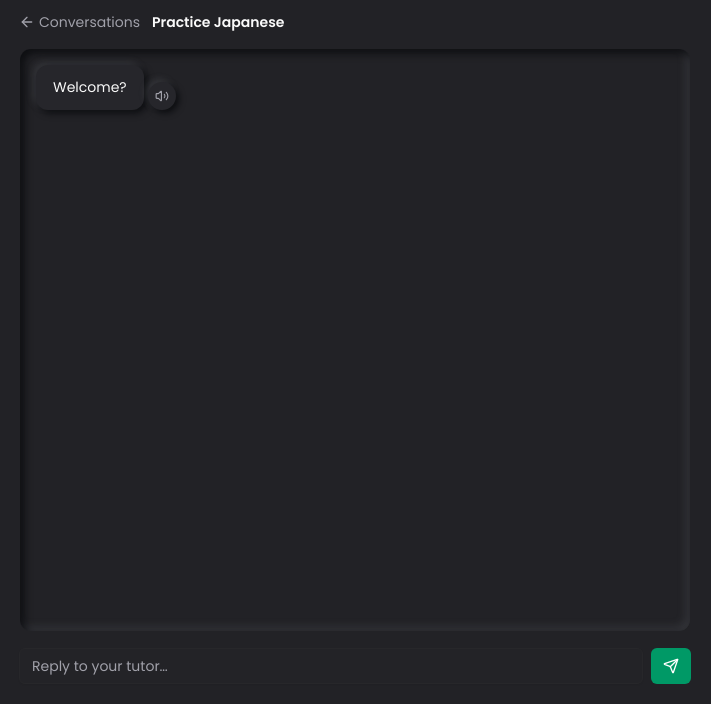
Test: ConversationChatPage › sends a message and appends the whole exchange without refetching
Expected: the text "Welcome?" is shown, [36,65,144,110]
Type "ねこ" into the field named "message" at (331, 666), box [19,648,643,684]
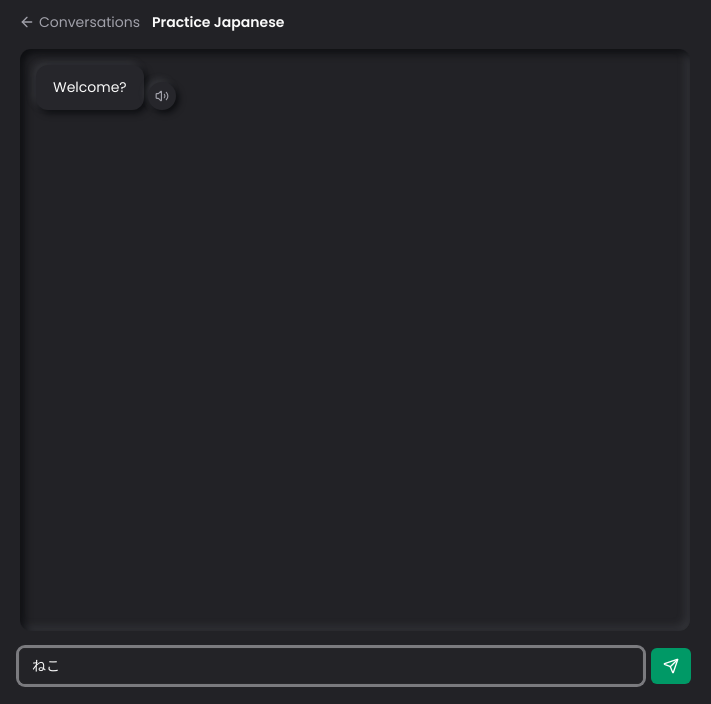
Click the button named "send" at (671, 666), box [651,648,691,684]
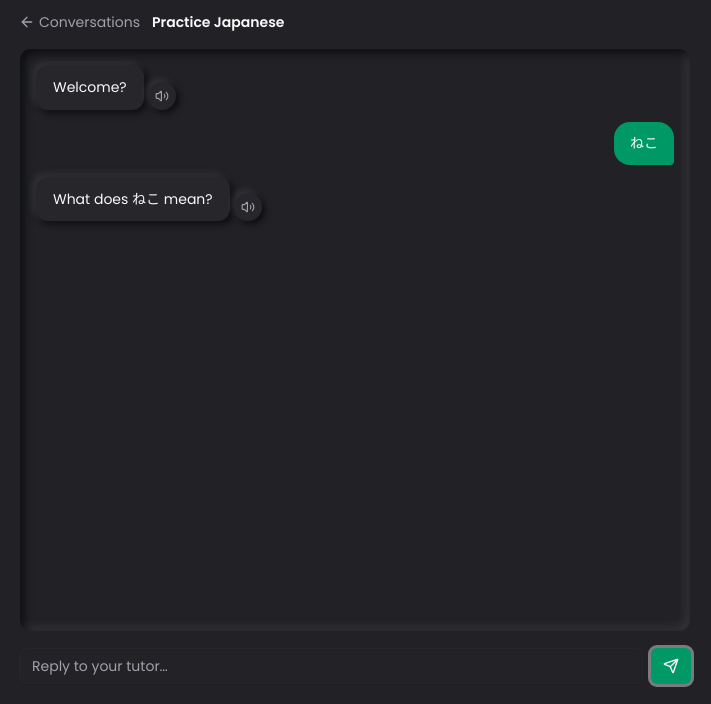
Expected: the text "ねこ" is shown, [614,122,674,165]
Expected: the text "What does ねこ mean?" is shown, [36,176,230,221]
Expected: the field named "message" is empty, [19,648,643,684]
